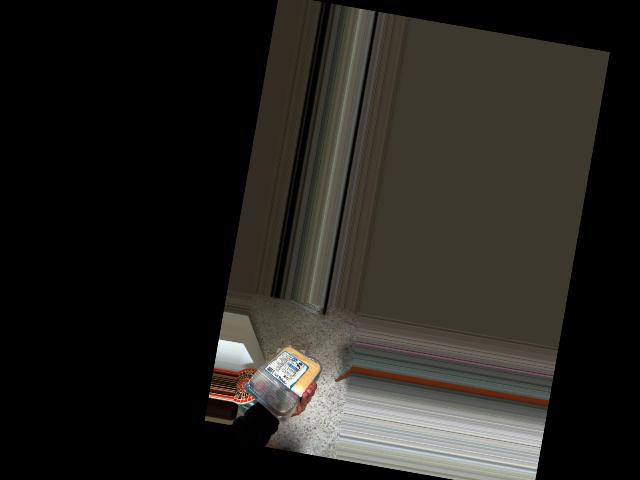cheese: (238, 336, 320, 408)
